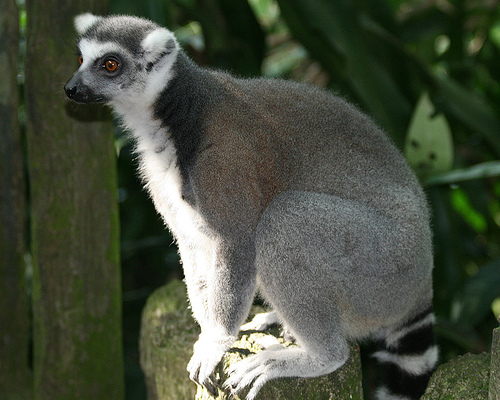cat: (66, 14, 438, 399)
